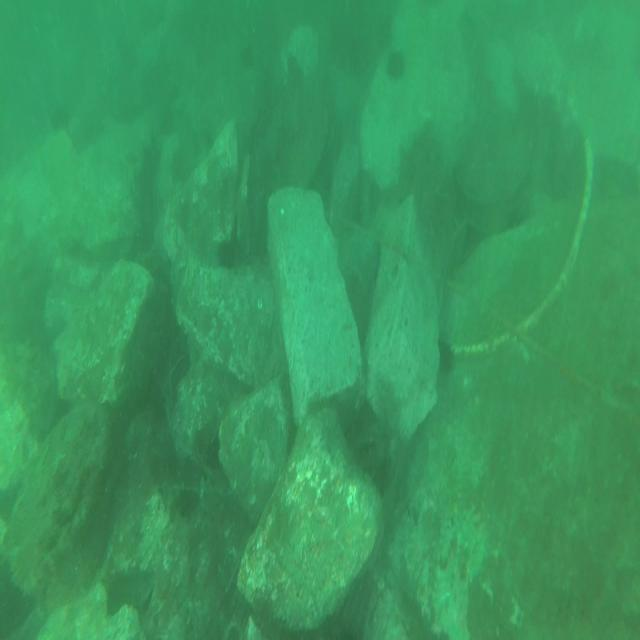echinus: (384, 46, 406, 82)
